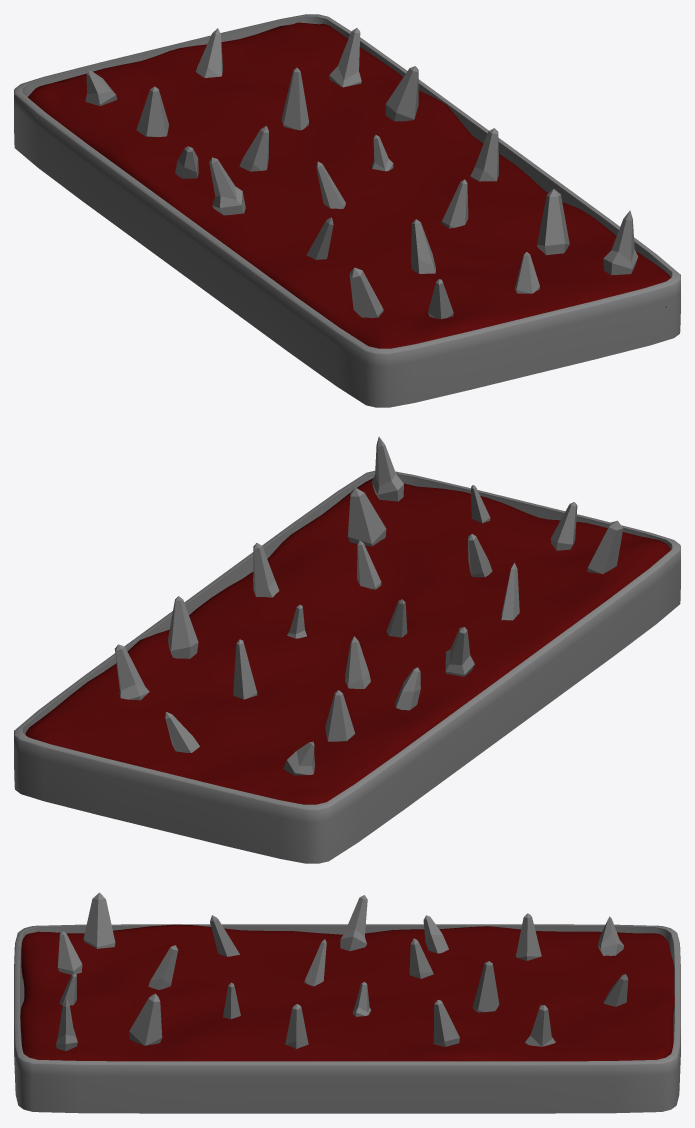
File: lavaBig.fbx
3 renders of one model, top to bottom at view 1: azimuth 30°, elevation 25°; view 2: azimuth 150°, elevation 25°; view 3: azimuth 270°, elevation 25°, orthographic. The views are drawn at different scales.
Parts seen in each view (by area): view 1: lava002, lavaBig, Cylinder057, Cylinder046, Cylinder041, Cylinder051, Cylinder056, Cylinder053, Cylinder052, Cylinder044, Cylinder049, Cylinder045 (+9 smaller); view 2: lava002, lavaBig, Cylinder046, Cylinder057, Cylinder051, Cylinder041, Cylinder053, Cylinder044, Cylinder052, Cylinder056, Cylinder049, Cylinder059 (+7 smaller); view 3: lava002, lavaBig, Cylinder057, Cylinder044, Cylinder046, Cylinder056, Cylinder051, Cylinder052, Cylinder053, Cylinder043, Cylinder045, Cylinder049 (+9 smaller).
Part boxes in pixels (left/top/right/bottom): lava002: left=27, top=22, right=670, bottom=348; lavaBig: left=14, top=14, right=680, bottom=407; Cylinder057: left=281, top=67, right=393, bottom=171; Cylinder046: left=537, top=189, right=569, bottom=255; Cylinder041: left=603, top=210, right=637, bottom=275; Cylinder051: left=385, top=66, right=418, bottom=121; Cylinder056: left=209, top=157, right=245, bottom=215; Cylinder053: left=329, top=28, right=361, bottom=87; Cylinder052: left=136, top=86, right=168, bottom=136; Cylinder044: left=349, top=267, right=383, bottom=317; Cylinder049: left=470, top=128, right=498, bottom=181; Cylinder045: left=411, top=219, right=435, bottom=273; lava002: left=25, top=478, right=670, bottom=804; lavaBig: left=14, top=470, right=680, bottom=863; Cylinder046: left=348, top=487, right=386, bottom=546; Cylinder057: left=233, top=604, right=306, bottom=699; Cylinder051: left=168, top=596, right=198, bottom=658; Cylinder041: left=371, top=436, right=403, bottom=501; Cylinder053: left=114, top=644, right=149, bottom=700; Cylinder044: left=587, top=520, right=623, bottom=573; Cylinder052: left=325, top=690, right=354, bottom=741; Cylinder056: left=445, top=627, right=474, bottom=676; Cylinder049: left=253, top=543, right=279, bottom=597; Cylinder059: left=345, top=636, right=370, bottom=688; lava002: left=20, top=924, right=674, bottom=1061; lavaBig: left=14, top=924, right=680, bottom=1113; Cylinder057: left=352, top=961, right=499, bottom=1016; Cylinder044: left=83, top=892, right=115, bottom=948; Cylinder046: left=129, top=993, right=162, bottom=1045; Cylinder056: left=340, top=895, right=367, bottom=950; Cylinder051: left=433, top=1000, right=459, bottom=1046; Cylinder052: left=515, top=913, right=541, bottom=960; Cylinder053: left=525, top=1005, right=555, bottom=1046; Cylinder043: left=57, top=931, right=82, bottom=974; Cylinder045: left=148, top=945, right=178, bottom=989; Cylinder049: left=285, top=1004, right=308, bottom=1048.
Size of the model in its own units: 1 by 0.3334 by 2.
